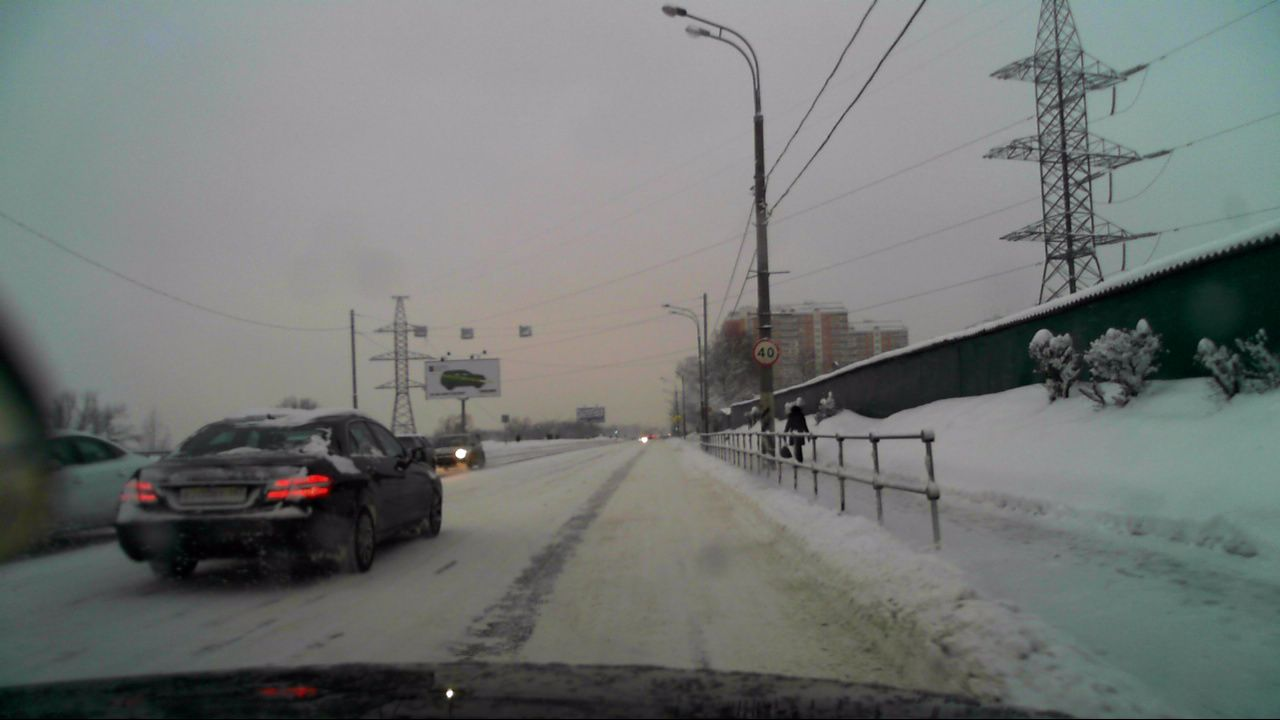speed_warning_40: (749, 338, 779, 366)
